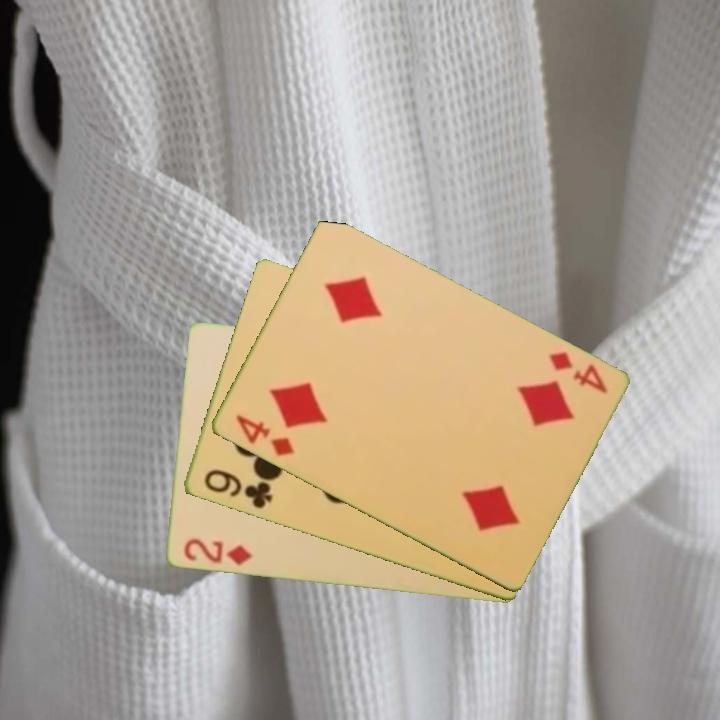2d: (179, 535, 255, 569)
4d: (544, 348, 611, 397), (232, 411, 297, 460)
9c: (200, 466, 275, 512)
